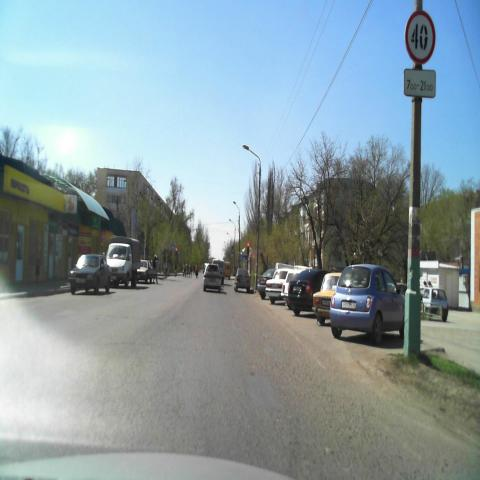8_5_4: (404, 67, 436, 99)
